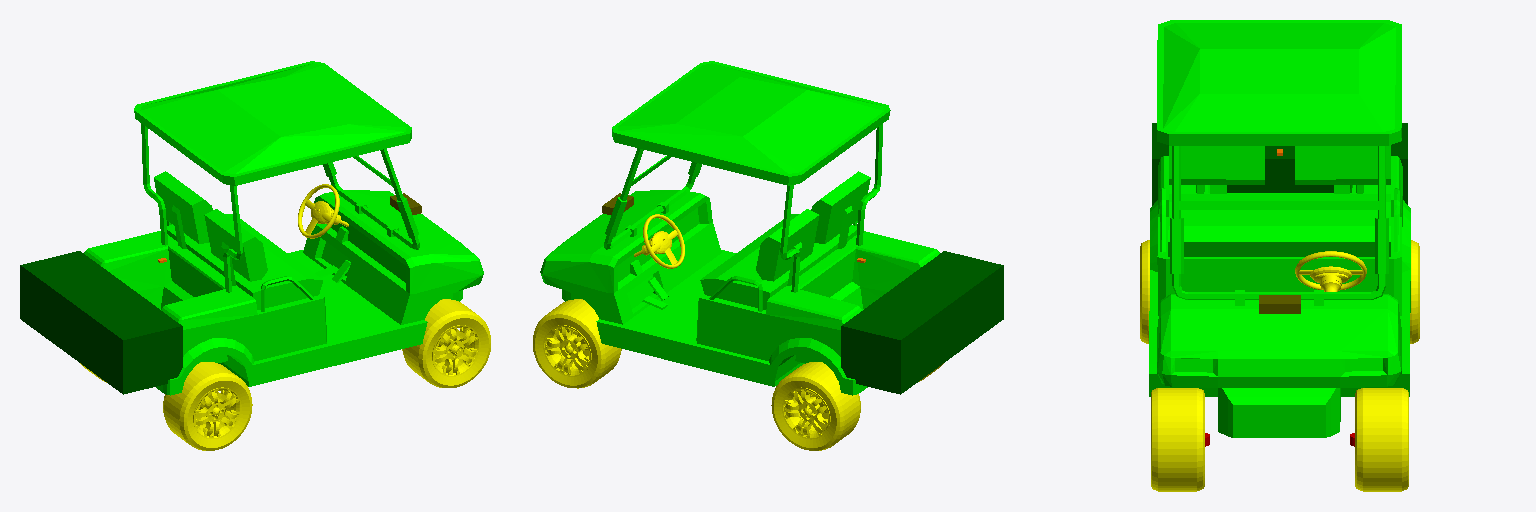
--- Facts derived from the render (not from the file) ---
3 views of the same robot in one strip: view 1: azimuth 30°, elevation 25°; view 2: azimuth 150°, elevation 25°; view 3: azimuth 270°, elevation 25° (orthographic).
Model CaRINA_I with 24 links and 23 joints (5 revolute, 4 continuous, 14 fixed), rooted at base_footprint, posed every joint at zero.
Links seen in each view (by area): view 1: chassis_1, box_link, back_right_wheel, front_right_wheel, wheel_dir_link; view 2: chassis_1, box_link, back_left_wheel, front_left_wheel, wheel_dir_link; view 3: chassis_1, front_left_wheel, front_right_wheel, box_link, wheel_dir_link, back_right_wheel, back_left_wheel, head.
Link boxes in pixels (x1,y1,x2,y2): chassis_1: (84, 61, 483, 395); box_link: (20, 251, 182, 394); back_right_wheel: (163, 362, 252, 450); front_right_wheel: (402, 299, 490, 387); wheel_dir_link: (298, 184, 348, 238); chassis_1: (540, 61, 939, 395); box_link: (841, 251, 1003, 394); back_left_wheel: (771, 362, 860, 450); front_left_wheel: (533, 299, 621, 388); wheel_dir_link: (634, 214, 684, 268); chassis_1: (1149, 20, 1410, 437); front_left_wheel: (1355, 388, 1408, 491); front_right_wheel: (1151, 388, 1204, 491); box_link: (1152, 123, 1407, 205); wheel_dir_link: (1295, 251, 1366, 291); back_right_wheel: (1140, 240, 1149, 343); back_left_wheel: (1410, 240, 1419, 343); head: (1259, 295, 1300, 313).
Bounding box of the posed robot: 2.51 × 1.32 × 1.78 m (x, y, z).
Meshes: 3 distinct files referenced, 6 mesh visuals loaded (3 Collada DAE).

The robot description file, URDF, robot "CaRINA_I":
<?xml version="1.0" ?>

<robot
	name="CaRINA_I"
	xmlns:xi="http://www.w3.org/2001/XInclude"
	xmlns:gazebo="http://playerstage.sourceforge.net/gazebo/xmlschema/#gz"
	xmlns:model="http://playerstage.sourceforge.net/gazebo/xmlschema/#model"
	xmlns:sensor="http://playerstage.sourceforge.net/gazebo/xmlschema/#sensor"
	xmlns:body="http://playerstage.sourceforge.net/gazebo/xmlschema/#body"
	xmlns:geom="http://playerstage.sourceforge.net/gazebo/xmlschema/#geom"
	xmlns:joint="http://playerstage.sourceforge.net/gazebo/xmlschema/#joint"
	xmlns:interface="http://playerstage.sourceforge.net/gazebo/xmlschema/#interface"
	xmlns:rendering="http://playerstage.sourceforge.net/gazebo/xmlschema/#rendering"
	xmlns:renderable="http://playerstage.sourceforge.net/gazebo/xmlschema/#renderable"
	xmlns:controller="http://playerstage.sourceforge.net/gazebo/xmlschema/#controller"
	xmlns:physics="http://playerstage.sourceforge.net/gazebo/xmlschema/#physics"
>
	<!-- LINKs -->

	<link name="base_footprint">
		<!-- 
		<inertial>
			<mass value="0.0001" />
			<origin xyz="0 0 0" />
			<inertia
				ixx="0.0001"
				ixy="0.0"
				ixz="0.0"
				iyy="0.0001"
				iyz="0.0"
				izz="0.0001" />
		</inertial>
		 -->
	</link>

	<link name="box_link">
		<inertial>
			<mass value="10" />
			<origin xyz="0 0 0" />
			<inertia
				ixx="0.1"
				ixy="0"
				ixz="0"
				iyy="0.1"
				iyz="0"
				izz="0.1" />
		</inertial>
		<visual>
			<origin
				rpy="0 0 0"
				xyz="0 0 0" />
			<geometry>
				<box size="0.4 1.2 0.35" />
			</geometry>
			<material name="Box">
				<color rgba="0.0 0.4 0.0 0.95" />
			</material>
		</visual>
		<collision>
			<origin
				rpy="0 0 0"
				xyz="0 0 0" />
			<geometry>
				<box size="0.4 1.2 0.35" />
			</geometry>
		</collision>
	</link>

	<link name="base_odometry">
		<inertial>
			<mass value="0.0001" />
			<origin xyz="0 0 0" />
			<inertia
				ixx="0.0001"
				ixy="0.0"
				ixz="0.0"
				iyy="0.0001"
				iyz="0.0"
				izz="0.0001" />
		</inertial>
	</link>

	<link name="base_link">
		<inertial>
			<mass value="0.001" />
			<origin xyz="0 0 0" />
			<inertia
				ixx="0.0001"
				ixy="0.0"
				ixz="0.0"
				iyy="0.0001"
				iyz="0.0"
				izz="0.0001" />
		</inertial>
	</link>

	<link name="base_wheel_dir_link">
		<inertial>
			<mass value="0.1" />
			<origin xyz="0 0 0.0" />
			<inertia
				ixx="0.1"
				ixy="0"
				ixz="0"
				iyy="0.1"
				iyz="0"
				izz="0.1" />
		</inertial>
	</link>

	<link name="wheel_dir_link">
		<inertial>
			<mass value="0.5" />
			<origin xyz="0 0 0" />
			<inertia
				ixx="0.0027"
				ixy="0.0"
				ixz="0.0"
				iyy="0.0039"
				iyz="0.0"
				izz="0.0027" />
		</inertial>
		<visual>
			<origin
				xyz="0 0 0"
				rpy="0 -1.57 0" />
			<geometry>
				<mesh
					filename="package://lrm_description/meshes/steering_wheel.dae"
					scale="0.00045 0.00045 0.00045" />
			</geometry>
			<material name="Steer">
				<color rgba="1.0 1.0 0.0 1.0" />
			</material>
		</visual>
		<collision>
			<origin
				xyz="0 0 0"
				rpy="0 0 0 " />
			<geometry>
				<cylinder
					radius="0.001"
					length="0.001" />
			</geometry>
		</collision>
	</link>

	<link name="chassis_1">
		<inertial>
			<mass value="300" />
			<origin xyz="0 0 0" />
			<inertia
				ixx="1.0"
				ixy="0.0"
				ixz="0.0"
				iyy="1.0"
				iyz="0.0"
				izz="1.0" />
		</inertial>
		<visual>
			<origin
				xyz="0 0 0.04"
				rpy="0 0 0" />
			<geometry>
				<mesh
					filename="package://lrm_description/meshes/carina_texture.dae"
					scale="0.85 0.9 0.85" />
			</geometry>
			<material name="Car">
				<color rgba="0.0 1.0 0.0 1.0" />
			</material>
		</visual>

		<collision>
			<origin
				xyz="-0.12 0.0 0.0"
				rpy="0 0 0" />
			<geometry>
				<box size="2.8 1.2 1.5" />
				<!-- 
				<mesh
					filename="package://carina_description/meshes/collada/golfcar/carina.dae"
					scale="0.85 0.9 0.85" />
				 -->
			</geometry>
		</collision>
	</link>

	<link name="front_link">
		<inertial>
			<mass value="0.001" />
			<origin xyz="0 0 0" />
			<inertia
				ixx="0.001"
				ixy="0.0"
				ixz="0.0"
				iyy="0.001"
				iyz="0.0"
				izz="0.001" />
		</inertial>
	</link>


	<link name="front_left_suspension_link">
		<inertial>
			<mass value="0.001" />
			<origin xyz="0 0 0" />
			<inertia
				ixx="0.001"
				ixy="0.0"
				ixz="0.0"
				iyy="0.001"
				iyz="0.0"
				izz="0.001" />
		</inertial>
	</link>

	<link name="front_right_suspension_link">
		<inertial>
			<mass value="0.001" />
			<origin xyz="0 0 0" />
			<inertia
				ixx="0.001"
				ixy="0.0"
				ixz="0.0"
				iyy="0.001"
				iyz="0.0"
				izz="0.001" />
		</inertial>
	</link>

	<link name="front_left_wheel">
		<inertial>
			<mass value="5.0" />
			<origin xyz="0 0 0" />
			<inertia
				ixx="0.0027"
				ixy="0.0"
				ixz="0.0"
				iyy="0.0039"
				iyz="0.0"
				izz="0.0027" />
		</inertial>
		<visual>
			<origin
				xyz="0 0 0"
				rpy="0 0 3.14159" />
			<geometry>
				<mesh
					filename="package://lrm_description/meshes/wheel.dae"
					scale="0.63 0.88 0.63" />
			</geometry>
			<material name="Roda">
				<color rgba="1.0 1.0 0.0 1.0" />
			</material>
		</visual>
		<collision>
			<origin
				xyz="0 0 0"
				rpy="1.57 0 0 " />
			<geometry>
				<cylinder
					radius="0.24"
					length="0.24" />
			</geometry>
		</collision>
		<contact_coefficients
			mu="0.01"
			kp="0.01"
			kd="0.01" />
		<dynamics
			damping="0.7"
			friction="100.0" />
	</link>

	<link name="front_right_wheel">
		<inertial>
			<mass value="5.0" />
			<origin xyz="0 0 0" />
			<inertia
				ixx="0.0027"
				ixy="0.0"
				ixz="0.0"
				iyy="0.0039"
				iyz="0.0"
				izz="0.0027" />
		</inertial>
		<visual>
			<origin
				xyz="0 0 0"
				rpy="0 0 0" />
			<geometry>
				<mesh
					filename="package://lrm_description/meshes/wheel.dae"
					scale="0.63 0.88 0.63" />
			</geometry>
			<material name="Roda">
				<color rgba="1.0 1.0 0.0 1.0" />
			</material>
		</visual>
		<collision>
			<origin
				xyz="0 0 0"
				rpy="1.57 0 0" />
			<geometry>
				<cylinder
					radius="0.24"
					length="0.24" />
			</geometry>
		</collision>
		<contact_coefficients
			mu="0.01"
			kp="0.01"
			kd="0.01" />
		<dynamics
			damping="0.7"
			friction="100.0" />
	</link>

	<link name="back_left_wheel">
		<inertial>
			<mass value="5.0" />
			<origin xyz="0 0 0" />
			<inertia
				ixx="0.0027"
				ixy="0.0"
				ixz="0.0"
				iyy="0.0039"
				iyz="0.0"
				izz="0.0027" />
		</inertial>
		<visual>
			<origin
				xyz="0 0 0"
				rpy="0 0 3.14159" />
			<geometry>
				<mesh
					filename="package://lrm_description/meshes/wheel.dae"
					scale="0.63 0.88 0.63" />
			</geometry>
			<material name="Roda">
				<color rgba="1.0 1.0 0.0 1.0" />
			</material>
		</visual>
		<collision>
			<origin
				xyz="0 0 0"
				rpy="1.57 0 0 " />
			<geometry>
				<cylinder
					radius="0.24"
					length="0.24" />
			</geometry>
		</collision>
		<contact_coefficients
			mu="0.01"
			kp="0.01"
			kd="0.01" />
		<dynamics
			damping="0.7"
			friction="100.0" />
	</link>

	<link name="back_right_wheel">
		<inertial>
			<mass value="5.0" />
			<origin xyz="0 0 0" />
			<inertia
				ixx="0.0027"
				ixy="0.0"
				ixz="0.0"
				iyy="0.0039"
				iyz="0.0"
				izz="0.0027" />
		</inertial>
		<visual>
			<origin
				xyz="0 0 0"
				rpy="0 0 0" />
			<geometry>
				<mesh
					filename="package://lrm_description/meshes/wheel.dae"
					scale="0.63 0.88 0.63" />
			</geometry>
			<material name="Roda">
				<color rgba="1.0 1.0 0.0 1.0" />
			</material>
		</visual>
		<collision>
			<origin
				xyz="0 0 0"
				rpy="1.57 0 0 " />
			<geometry>
				<cylinder
					radius="0.24"
					length="0.24" />
			</geometry>
		</collision>
		<contact_coefficients
			mu="0.01"
			kp="0.01"
			kd="0.01" />
		<dynamics
			damping="0.7"
			friction="100.0" />
	</link>

	<link name="back_left_wheel_dir">
		<inertial>
			<mass value="0.1" />
			<origin xyz="0 0 0" />
			<inertia
				ixx="0.01"
				ixy="0.0"
				ixz="0.0"
				iyy="0.01"
				iyz="0.0"
				izz="0.01" />
		</inertial>
		<visual>
			<origin
				xyz="0 0 0"
				rpy="0 0 0" />
			<geometry>
				<cylinder
					radius="0.03"
					length="0.045" />
			</geometry>
			<material name="Red">
				<color rgba="0.8 0.0 0.0 1.0" />
			</material>
		</visual>
		<collision>
			<origin
				xyz="0 0 0"
				rpy="0 0 0 " />
			<geometry>
				<cylinder
					radius="0.03"
					length="0.045" />
			</geometry>
		</collision>
	</link>

	<link name="back_right_wheel_dir">
		<inertial>
			<mass value="0.1" />
			<origin xyz="0 0 0" />
			<inertia
				ixx="0.01"
				ixy="0.0"
				ixz="0.0"
				iyy="0.01"
				iyz="0.0"
				izz="0.01" />
		</inertial>
		<visual>
			<cylinder
				radius="0.03"
				length="0.045" />
			<geometry>
				<cylinder
					radius="0.03"
					length="0.045" />
			</geometry>
			<material name="Red">
				<color rgba="0.8 0.0 0.0 1.0" />
			</material>
		</visual>
		<collision>
			<origin
				xyz="0 0 0"
				rpy="0 0 0 " />
			<geometry>
				<cylinder
					radius="0.03"
					length="0.045" />
			</geometry>
		</collision>
	</link>

	<link name="front_left_wheel_dir">
		<inertial>
			<mass value="0.1" />
			<origin xyz="0 0 0" />
			<inertia
				ixx="0.01"
				ixy="0.0"
				ixz="0.0"
				iyy="0.01"
				iyz="0.0"
				izz="0.01" />
		</inertial>
		<visual>
			<origin
				xyz="0 0 0"
				rpy="0 0 0" />
			<geometry>
				<cylinder
					radius="0.03"
					length="0.045" />
			</geometry>
			<material name="Red">
				<color rgba="0.8 0.0 0.0 1.0" />
			</material>
		</visual>
		<collision>
			<origin
				xyz="0 0 0"
				rpy="0 0 0 " />
			<geometry>
				<cylinder
					radius="0.03"
					length="0.045" />
			</geometry>
		</collision>
	</link>

	<link name="front_right_wheel_dir">
		<inertial>
			<mass value="0.1" />
			<origin xyz="0 0 0" />
			<inertia
				ixx="0.01"
				ixy="0.0"
				ixz="0.0"
				iyy="0.01"
				iyz="0.0"
				izz="0.01" />
		</inertial>
		<visual>
			<origin
				xyz="0 0 0"
				rpy="0 0 0" />
			<geometry>
				<cylinder
					radius="0.03"
					length="0.045" />
			</geometry>
			<material name="Red">
				<color rgba="0.8 0.0 0.0 1.0" />
			</material>
		</visual>
		<collision>
			<origin
				xyz="0 0 0"
				rpy="0 0 0 " />
			<geometry>
				<cylinder
					radius="0.03"
					length="0.045" />
			</geometry>
		</collision>
	</link>
<!-- 
	<link name="camera_base_link">
		<inertial>
			<mass value="0.1" />
			<origin xyz="0 0 0.0" />
			<inertia
				ixx="0.1"
				ixy="0"
				ixz="0"
				iyy="0.1"
				iyz="0"
				izz="0.1" />
		</inertial>
		<visual>
			<origin
				rpy="0 0 0"
				xyz="0 0 0" />
			<geometry>
				<box size="0.10 0.24 0.07" />
			</geometry>
			<material name="Blue">
				<color rgba="0.0 0.0 0.8 1.0" />
			</material>
		</visual>
		<collision>
			<origin
				rpy="0 0 0"
				xyz="0 0 0" />
			<geometry>
				<box size="0.10 0.24 0.07" />
			</geometry>
		</collision>
	</link>

	<link name="camera_optical_link">

		<inertial>
			<mass value="0.01" />
			<origin
				xyz="0 0 0"
				rpy="0 0 0" />
			<inertia
				ixx="0.001"
				ixy="0.0"
				ixz="0.0"
				iyy="0.001"
				iyz="0.0"
				izz="0.001" />
		</inertial>
	</link>
-->
	<link name="imu_link">
		<inertial>
			<mass value="0.05" />
			<origin
				rpy="0 0 0"
				xyz="0 0 0" />
			<inertia
				ixx="0.0001"
				ixy="0"
				ixz="0"
				iyy="0.000001"
				iyz="0"
				izz="0.0001" />
		</inertial>
		<visual>
			<origin
				rpy="0 0 0"
				xyz="0 0 0" />
			<geometry>
				<box size="0.045 0.03 0.015" />
			</geometry>
			<material name="Orange">
				<color rgba="1 0.5 0.0 1.0" />
			</material>
		</visual>
		<collision>
			<origin
				rpy="0 0 0"
				xyz="0 0 0" />
			<geometry>
				<box size="0.02 0.04 0.02" />
			</geometry>
		</collision>
	</link>

	<!-- JOINTs -->

	<joint
		name="joint_base_link_base_wd"
		type="fixed"
	>
		<origin
			rpy="0 0 0"
			xyz="0.8 0.24 0.1" />
		<parent link="base_link" />
		<child link="base_wheel_dir_link" />
	</joint>

	<joint
		name="joint_base_link_wd"
		type="revolute"
	>
		<origin
			xyz="-0.15 0.0 0.0"
			rpy="-1.57 0.6 0" />
		<axis
			xyz="1 0 0"
			rpy="0 0 0" />
		<limit
			effort="500"
			velocity="500"
			upper="7.85300"
			lower="-7.85530" />
		<parent link="base_wheel_dir_link" />
		<child link="wheel_dir_link" />
	</joint>

	<joint
		name="base_link_box_joint"
		type="fixed"
	>
		<origin
			rpy="0 0 0"
			xyz="-1.05 0 -0.08" />
		<parent link="base_link" />
		<child link="box_link" />
	</joint>

	<joint
		name="base_odometry_joint"
		type="fixed"
	>
	<!-- encoder roda direita -->
		<origin
			rpy="0 0 0"
			xyz="-0.67 0 -0.7" />
		<parent link="base_link" />
		<child link="base_odometry" />
	</joint>

	<joint
		name="base_footprint_joint"
		type="fixed"
	>
		<origin
			rpy="0 0 0"
			xyz="0 0 0.745" />
		<parent link="base_footprint" />
		<child link="base_link" />
	</joint>

	<joint
		name="chassis_1_joint"
		type="fixed"
	>
		<origin
			xyz="0.15 0 0.28"
			rpy="0 0 0" />
		<parent link="base_link" />
		<child link="chassis_1" />
	</joint>

	<joint
		name="base_front_joint"
		type="fixed"
	>
		<origin
			rpy="0 0 0"
			xyz="1 0 -0.25" />
		<parent link="base_link" />
		<child link="front_link" />
	</joint>

	<joint
		name="joint_front_left_suspension"
		type="revolute"
	>
		<origin
			rpy="0 0 0"
			xyz="0 0.36 0" />
		<parent link="front_link" />
		<child link="front_left_suspension_link" />
		<axis
			xyz="1 0 0"
			rpy="0 0 0" />
		<limit
			effort="50"
			velocity="5"
			upper="0.02"
			lower="-0.02" />
		<cfm>0.00000017</cfm>
		<erp>0.17</erp>
	</joint>

	<joint
		name="joint_front_right_suspension"
		type="revolute"
	>
		<origin
			rpy="0 0 0"
			xyz="0 -0.36 0" />
		<parent link="front_link" />
		<child link="front_right_suspension_link" />
		<axis
			xyz="1 0 0"
			rpy="0 0 0" />
		<limit
			effort="50"
			velocity="5"
			upper="0.02"
			lower="-0.02" />
		<cfm>0.00000017</cfm>
		<erp>0.17</erp>
	</joint>
	
<!-- 
	<joint
		name="camera_base_mount_joint"
		type="fixed"
	>
		<origin
			rpy="0 0 0"
			xyz="1.2 0 0.49" />
		<parent link="base_link" />
		<child link="camera_base_link" />
	</joint>

	<joint
		name="camera_optical_frame_joint"
		type="fixed"
	>
		<origin
			xyz="0.0 0.0 0.1"
			rpy="0.0 0.0 0.0" />
		<parent link="camera_base_link" />
		<child link="camera_optical_link" />
	</joint>
-->

	<joint
		name="imu_joint"
		type="fixed"
	>
		<axis xyz="1 0 0" /> <!-- 0 1 0 -->
		<origin xyz="-0.64 0 0.225" />
		<parent link="base_link" />
		<child link="imu_link" />
	</joint>

	<joint
		name="joint_front_left_wheel_dir"
		type="revolute"
	>
		<parent link="front_left_suspension_link" />
		<child link="front_left_wheel_dir" />
		<origin
			xyz="0.0 0.0 -0.25"
			rpy="0 0 0" />
		<axis
			xyz="0 0 1"
			rpy="0 0 0" />
		<limit
			effort="100"
			velocity="10"
			lower="-0.96"
			upper="0.96" /> <!-- 55 grad -->
	</joint>

	<joint
		name="joint_front_right_wheel_dir"
		type="revolute"
	>
		<parent link="front_right_suspension_link" />
		<child link="front_right_wheel_dir" />
		<origin
			xyz="0.0 0.0 -0.25"
			rpy="0 0 0" />
		<axis xyz="0 0 1" />
		<limit
			effort="100"
			velocity="10"
			lower="-0.96"
			upper="0.96" />
	</joint>

	<joint
		name="joint_back_left_wheel_dir"
		type="fixed"
	>
		<parent link="base_link" />
		<child link="back_left_wheel_dir" />
		<origin
			xyz="-0.64 0.41 -0.5"
			rpy="0 0 0" />
		<joint_properties
			damping="0.0"
			friction="0.0" />
		<contact_coefficients
			mu="0.01"
			kp="0.01"
			kd="0.01" />
	</joint>

	<joint
		name="joint_back_right_wheel_dir"
		type="fixed"
	>
		<parent link="base_link" />
		<child link="back_right_wheel_dir" />
		<origin
			xyz="-0.64 -0.41 -0.5"
			rpy="0 0 0" />
		<joint_properties
			damping="0.0"
			friction="0.0" />
		<contact_coefficients
			mu="0.01"
			kp="0.01"
			kd="0.01" />
	</joint>

	<joint
		name="joint_back_left_wheel"
		type="continuous"
	>
		<parent link="back_left_wheel_dir" />
		<child link="back_left_wheel" />
		<origin
			xyz="0.0 0.12 0"
			rpy="0 0 0" />
		<axis
			xyz="0 1 0"
			rpy="0 0 0" />
		<limit
			effort="100"
			velocity="10" />
		<dynamics
			damping="0.0"
			friction="0.0" />
		<cfm>0.00000017</cfm>
		<erp>0.17</erp>
	</joint>

	<joint
		name="joint_back_right_wheel"
		type="continuous"
	>
		<parent link="back_right_wheel_dir" />
		<child link="back_right_wheel" />
		<origin
			xyz="0.0 -0.12 0"
			rpy="0 0 0" />
		<axis
			xyz="0 1 0"
			rpy="0 0 0" />
		<limit
			effort="100"
			velocity="10" />
		<joint_properties
			damping="0.0"
			friction="0.0" />
		<cfm>0.00000017</cfm>
		<erp>0.17</erp>
	</joint>

	<joint
		name="joint_front_left_wheel"
		type="continuous"
	>
		<parent link="front_left_wheel_dir" />
		<child link="front_left_wheel" />
		<origin
			xyz="0.0 0.12 0.0"
			rpy="0 0 0" />
		<axis xyz="0 1 0" />
		<limit
			effort="100"
			velocity="10" />
		<joint_properties
			damping="0.0"
			friction="0.0" />
	</joint>

	<joint
		name="joint_front_right_wheel"
		type="continuous"
	>
		<parent link="front_right_wheel_dir" />
		<child link="front_right_wheel" />
		<origin
			xyz="0.0 -0.12 0.0"
			rpy="0 0 0" />
		<axis xyz="0 1 0" />
		<limit
			effort="100"
			velocity="10" />
		<joint_properties
			damping="0.0"
			friction="0.0" />
	</joint>

	

	<!-- Transmissions 
	<transmission
		name="joint_base_link_wd_trans"
		type="pr2_mechanism_model/SimpleTransmission"
	>
		<actuator name="joint_base_link_ww_motor" />
		<joint name="joint_base_link_wd" />
		<mechanicalReduction>1</mechanicalReduction>
		<motorTorqueConstant>1</motorTorqueConstant>
	</transmission>

	<transmission
		name="joint_flw_trans"
		type="pr2_mechanism_model/SimpleTransmission"
	>
		<actuator name="joint_flw_motor" />
		<joint name="joint_front_left_wheel" />
		<mechanicalReduction>1</mechanicalReduction>
		<motorTorqueConstant>1</motorTorqueConstant>
	</transmission>

	<transmission
		name="joint_frw_trans"
		type="pr2_mechanism_model/SimpleTransmission"
	>
		<actuator name="joint_frw_motor" />
		<joint name="joint_front_right_wheel" />
		<mechanicalReduction>1</mechanicalReduction>
		<motorTorqueConstant>1</motorTorqueConstant>
	</transmission>

	<transmission
		name="joint_blw_trans"
		type="pr2_mechanism_model/SimpleTransmission"
	>
		<actuator name="joint_blw_motor" />
		<joint name="joint_back_left_wheel" />
		<mechanicalReduction>1</mechanicalReduction>
		<motorTorqueConstant>1</motorTorqueConstant>
	</transmission>

	<transmission
		name="joint_brw_trans"
		type="pr2_mechanism_model/SimpleTransmission"
	>
		<actuator name="joint_brw_motor" />
		<joint name="joint_back_right_wheel" />
		<mechanicalReduction>1</mechanicalReduction>
		<motorTorqueConstant>1</motorTorqueConstant>
	</transmission>

	<transmission
		name="joint_flw_trans_dir"
		type="pr2_mechanism_model/SimpleTransmission"
	>
		<actuator name="joint_flw_motor_dir" />
		<joint name="joint_front_left_wheel_dir" />
		<mechanicalReduction>1</mechanicalReduction>
		<motorTorqueConstant>1</motorTorqueConstant>
	</transmission>

	<transmission
		name="joint_frw_trans_dir"
		type="pr2_mechanism_model/SimpleTransmission"
	>
		<actuator name="joint_frw_motor_dir" />
		<joint name="joint_front_right_wheel_dir" />
		<mechanicalReduction>1</mechanicalReduction>
		<motorTorqueConstant>1</motorTorqueConstant>
	</transmission>
	-->
	
	<!-- GAZEBO -->
	<gazebo reference="chassis_1">
		<material>Gazebo/Green</material>
		<turnGravityOff>false</turnGravityOff>
	</gazebo>
	<gazebo reference="camera_base01_link">
		<material>Gazebo/Whith</material>
		<turnGravityOff>false</turnGravityOff>
	</gazebo>
	<gazebo reference="back_left_wheel_dir">
		<material>Gazebo/Red</material>
		<turnGravityOff>false</turnGravityOff>
	</gazebo>
	<gazebo reference="back_right_wheel_dir">
		<material>Gazebo/Red</material>
		<turnGravityOff>false</turnGravityOff>
	</gazebo>
	<gazebo reference="front_left_wheel_dir">
		<material>Gazebo/Red</material>
		<turnGravityOff>false</turnGravityOff>
	</gazebo>
	<gazebo reference="front_right_wheel_dir">
		<material>Gazebo/Red</material>
		<turnGravityOff>false</turnGravityOff>
	</gazebo>
	 
	<!-- wheels -->
	<gazebo reference="front_left_wheel">
		<mu1 value="1.0" />
		<mu2 value="0.5" />
		<fdir1 value="1 0 0" />
		<material>Gazebo/Grey</material>
		<turnGravityOff>false</turnGravityOff>
	</gazebo>
	<gazebo reference="back_left_wheel">
		<mu1 value="1.0" />
		<mu2 value="0.5" />
		<fdir1 value="1 0 0" />
		<material>Gazebo/Grey</material>
		<turnGravityOff>false</turnGravityOff>
	</gazebo>
	<gazebo reference="back_right_wheel">
		<mu1 value="1.0" />
		<mu2 value="0.5" />
		<fdir1 value="1 0 0" />
		<material>Gazebo/Grey</material>
		<turnGravityOff>false</turnGravityOff>
	</gazebo>
	<gazebo reference="front_right_wheel">
		<mu1 value="1.0" />
		<mu2 value="0.5" />
		<fdir1 value="1 0 0" />
		<material>Gazebo/Grey</material>
		<turnGravityOff>false</turnGravityOff>
	</gazebo>

<!-- 
	<gazebo reference="front_right_suspension_joint">
		<physics>
			<ode>
				<cfm>0.5</cfm>
				<bounce>0.1</bounce>
				<suspension>
					<cmf>0.5</cmf>
					<erp>0.5</erp>
				</suspension>
			</ode>
		</physics>
	</gazebo>
 -->
 	
<!-- 
	<gazebo reference="camera_base_link">
		<material>Gazebo/Red</material>
		<turnGravityOff>false</turnGravityOff>
		
		<sensor:camera name="camera_sensor">
			<imageSize>640 480</imageSize>
			<imageFormat>R8G8B8</imageFormat>
			<hfov>90</hfov>
			<nearClip>0.1</nearClip>
			<farClip>100</farClip>
			<updateRate>15.0</updateRate>
			 
			<controller:gazebo_ros_camera
				name="camera_base_link_controller"
				plugin="libgazebo_ros_prosilica.so"
			>
				<alwaysOn>true</alwaysOn>
				<updateRate>15.0</updateRate>
				<cameraName>camera</cameraName>
				<imageTopicName>image_raw</imageTopicName>
				<cameraInfoTopicName>camera_info</cameraInfoTopicName>
				<pollServiceName>request_image</pollServiceName>
				<frameName>camera_optical_link</frameName>
				<CxPrime>320</CxPrime>
				<Cx>320</Cx>
				<Cy>240</Cy>
				<focalLength>320</focalLength>
				<distortionK1>0</distortionK1>
				<distortionK2>0</distortionK2>
				<distortionK3>0</distortionK3>
				<distortionT1>0</distortionT1>
				<distortionT2>0</distortionT2>
			</controller:gazebo_ros_camera>
		</sensor:camera>
		
		<sensor:depth name="depth_camera_sensor">
			<controller:gazebo_ros_depth_camera name="camera_depth_controller" plugin="libgazebo_ros_depth_camera.so">
			</controller:gazebo_ros_depth_camera>
		</sensor:depth>
		
	</gazebo>
-->

	<link name="head">
		<visual>
			<origin
				rpy="0 0 0"
				xyz="0 0 0" />
			<geometry>
				<box size="0.1 0.2 0.05" />
			</geometry>
			<material name="Box2">
				<color rgba="0.4 0.4 0.0 0.95" />
			</material>
		</visual>
	</link>

	<joint
		name="base_head"
		type="fixed"
	>
		<parent link="base_link" />
		<child link="head" />
		<origin xyz="1.0 0.0 0.2" />
	</joint>	
 	
 	<!-- Stereo Camera -->


	<joint
		name="left_camera_frame_joint"
		type="fixed"
	>
		<origin xyz="0.03 0.1 0.1" />
		<parent link="head" />
		<child link="left_camera_frame" />
	</joint>
	<link name="left_camera_frame">
		<inertial>
			<mass value="0.1" />
			<origin xyz="0 0 0" />
			<inertia
				ixx="0.001"
				ixy="0.0"
				ixz="0.0"
				iyy="0.001"
				iyz="0.0"
				izz="0.001" />
		</inertial>
	</link>
	<joint
		name="left_camera_optical_frame_joint"
		type="fixed"
	>
		<origin
			xyz="0 0 0"
			rpy="-1.5708 0.0 -1.5708" />
		<parent link="left_camera_frame" />
		<child link="left_camera_optical_frame" />
	</joint>
	<link name="left_camera_optical_frame">
		<inertial>
			<mass value="0.1" />
			<origin xyz="0 0 0" />
			<inertia
				ixx="0.001"
				ixy="0.0"
				ixz="0.0"
				iyy="0.001"
				iyz="0.0"
				izz="0.001" />
		</inertial>
	</link>

	<gazebo reference="left_camera_frame">
		<sensor:camera name="left_camera_sensor">
			<imageSize>320 240</imageSize>
			<imageFormat>R8G8B8</imageFormat>
			<hfov>45</hfov>
			<nearClip>0.1</nearClip>
			<farClip>100</farClip>
			<updateRate>15</updateRate>
			<controller:gazebo_ros_camera
				name="left_camera_controller"
				plugin="libgazebo_ros_prosilica.so"
			>
				<alwaysOn>true</alwaysOn>
				<updateRate>15</updateRate>
				<cameraName>stereo/left</cameraName>
				<imageTopicName>image_raw</imageTopicName>
				<cameraInfoTopicName>camera_info</cameraInfoTopicName>
				<pollServiceName>request_image</pollServiceName>
				<frameName>head</frameName>
				<CxPrime>320</CxPrime>
				<Cx>320</Cx>
				<Cy>240</Cy>
				<focal_length>554.256</focal_length>
				<hackBaseline>0.0</hackBaseline>
				<distortionK1>0.00000001</distortionK1>
				<distortionK2>0.00000001</distortionK2>
				<distortionK3>0.00000001</distortionK3>
				<distortionT1>0.00000001</distortionT1>
				<distortionT2>0.00000001</distortionT2>
				<interface:camera name="cam_left_iface" />
			</controller:gazebo_ros_camera>
		</sensor:camera>
	</gazebo>

	<joint
		name="right_camera_frame_joint"
		type="fixed"
	>
		<origin xyz="0.03 -0.1 0.1" />
		<parent link="head" />
		<child link="right_camera_frame" />
	</joint>
	<link name="right_camera_frame">
		<inertial>
			<mass value="0.1" />
			<origin xyz="0 0 0" />
			<inertia
				ixx="0.001"
				ixy="0.0"
				ixz="0.0"
				iyy="0.001"
				iyz="0.0"
				izz="0.001" />
		</inertial>
	</link>
	<joint
		name="right_camera_optical_frame_joint"
		type="fixed"
	>
		<origin
			xyz="0 0 0"
			rpy="-1.5708 0.0 -1.5708" />
		<parent link="right_camera_frame" />
		<child link="right_camera_optical_frame" />
	</joint>
	<link name="right_camera_optical_frame">
		<inertial>
			<mass value="0.1" />
			<origin xyz="0 0 0" />
			<inertia
				ixx="0.001"
				ixy="0.0"
				ixz="0.0"
				iyy="0.001"
				iyz="0.0"
				izz="0.001" />
		</inertial>
	</link>

	<gazebo reference="right_camera_frame">
		<sensor:camera name="right_camera_sensor">
			<imageSize>320 240</imageSize>
			<imageFormat>R8G8B8</imageFormat>
			<hfov>45</hfov>
			<nearClip>0.1</nearClip>
			<farClip>100</farClip>
			<updateRate>15</updateRate>
			<controller:gazebo_ros_camera
				name="right_camera_controller"
				plugin="libgazebo_ros_prosilica.so"
			>
				<alwaysOn>true</alwaysOn>
				<updateRate>15</updateRate>
				<cameraName>stereo/right</cameraName>
				<imageTopicName>image_raw</imageTopicName>
				<cameraInfoTopicName>camera_info</cameraInfoTopicName>
				<pollServiceName>request_image</pollServiceName>
				<frameName>head</frameName>
				<CxPrime>320</CxPrime>
				<Cx>320</Cx>
				<Cy>240</Cy>
				<focal_length>554.256</focal_length>
				<hackBaseline>0.12</hackBaseline>
				<distortionK1>0.00000001</distortionK1>
				<distortionK2>0.00000001</distortionK2>
				<distortionK3>0.00000001</distortionK3>
				<distortionT1>0.00000001</distortionT1>
				<distortionT2>0.00000001</distortionT2>
				<interface:camera name="cam_right_iface" />
			</controller:gazebo_ros_camera>
		</sensor:camera>
	</gazebo>

	<gazebo>
		<controller:gazebo_ros_controller_manager
			name="gazebo_ros_controller_manager"
			plugin="libgazebo_ros_controller_manager.so"
		>
			<alwaysOn>true</alwaysOn>
			<updateRate>240</updateRate>
			<robotParam>robot_description</robotParam>
			<robotNamespace>/</robotNamespace>
		</controller:gazebo_ros_controller_manager>
		<controller:gazebo_ros_imu
			name="imu_controller"
			plugin="libgazebo_ros_imu.so"
		>
			<alwaysOn>true</alwaysOn>
			<updateRate>30</updateRate>
			<bodyName>imu_link</bodyName>
			<topicName>imu_data</topicName>
			<serviceName>imu_service</serviceName>
			<gaussianNoise>2.89e-08</gaussianNoise>
			<interface:position name="imu_position" />
		</controller:gazebo_ros_imu>
		<controller:gazebo_ros_p3d
			name="p3d_base_controller"
			plugin="libgazebo_ros_p3d.so"
		>
			<alwaysOn>true</alwaysOn>
			<updateRate>30</updateRate>
			<bodyName>base_odometry</bodyName>
			<topicName>odom_gazebo</topicName>
			<gaussianNoise>0.01</gaussianNoise>
			<frameName>base_odometry</frameName>
			<interface:position name="p3d_base_position" />
		</controller:gazebo_ros_p3d>
	</gazebo>

</robot>

	
